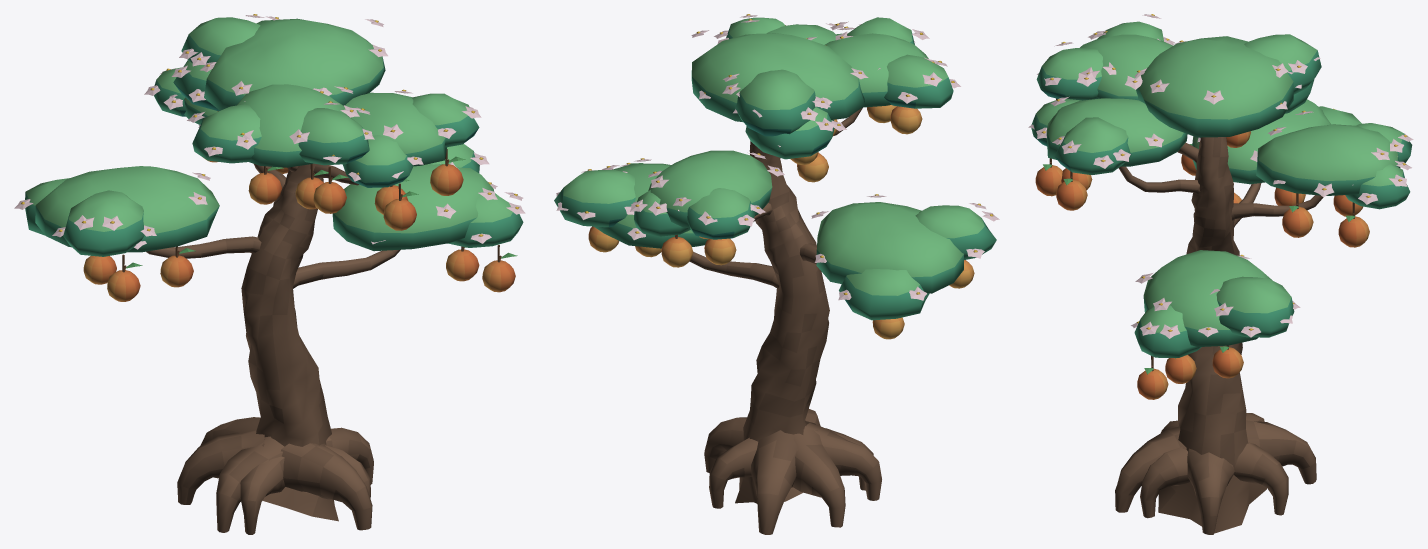
Rendered from tree_fruit.glb.
The picture shows the model from 3 angles, left to right: view 1: azimuth 30°, elevation 25°; view 2: azimuth 150°, elevation 25°; view 3: azimuth 270°, elevation 25°; orthographic projection. The views are drawn at different scales.
Parts seen in each view (by area): view 1: foliage_body_nl, trunk, fruit, blossom_body_nl; view 2: foliage_body_nl, trunk, fruit, blossom_body_nl; view 3: foliage_body_nl, trunk, fruit, blossom_body_nl.
Boxes of the visible parts, box(x1,y1,x2,y2) form: foliage_body_nl: box(25, 17, 523, 256); trunk: box(146, 163, 400, 534); fruit: box(83, 111, 515, 301); blossom_body_nl: box(14, 14, 525, 249); foliage_body_nl: box(554, 17, 996, 320); trunk: box(689, 107, 881, 534); fruit: box(588, 105, 974, 339); blossom_body_nl: box(556, 14, 999, 300); foliage_body_nl: box(1031, 21, 1412, 357); trunk: box(1115, 137, 1323, 534); fruit: box(1035, 98, 1369, 399); blossom_body_nl: box(1028, 14, 1413, 338).
Size of the model in its own units: 67.13 by 70.1 by 52.71.
